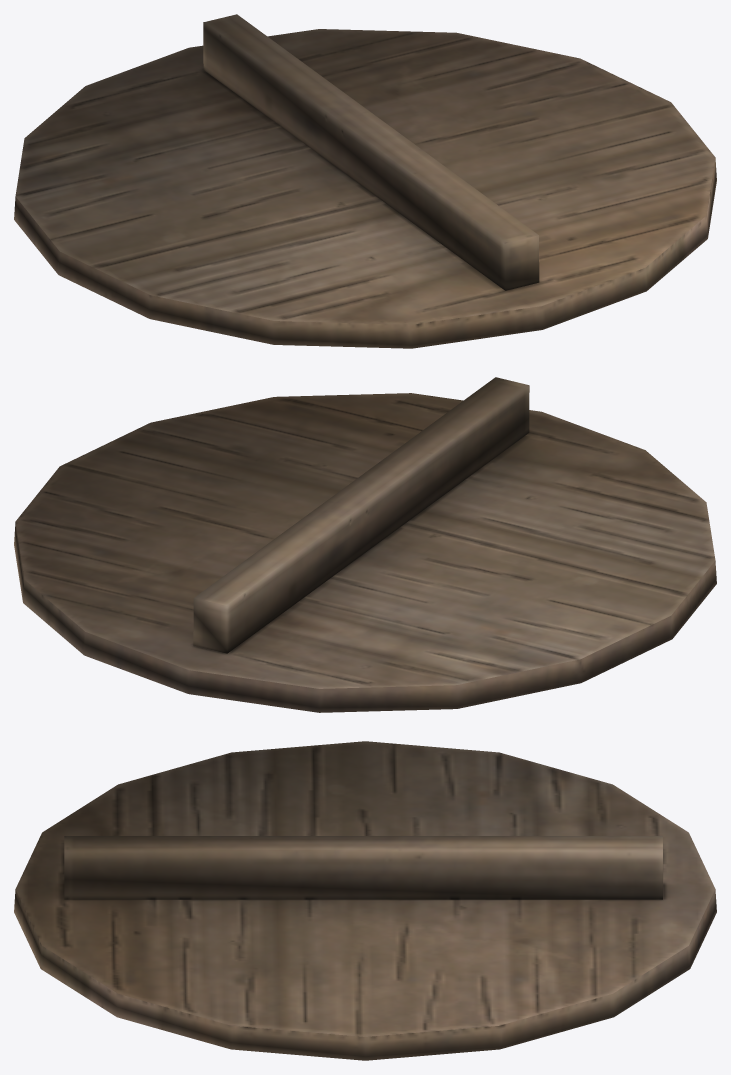
File: jov_cooker03a.fbx
3 renders of one model, top to bottom at view 1: azimuth 30°, elevation 25°; view 2: azimuth 150°, elevation 25°; view 3: azimuth 270°, elevation 25°, orthographic.
Parts seen in each view (by area): view 1: jov_cooker03a; view 2: jov_cooker03a; view 3: jov_cooker03a.
Part boxes in pixels (x1,y1,x2,y2): jov_cooker03a: [14, 14, 716, 348]; jov_cooker03a: [14, 377, 716, 712]; jov_cooker03a: [14, 741, 716, 1060].
Bounding box in the file's own units: 63.19 × 6.97 × 63.19.
